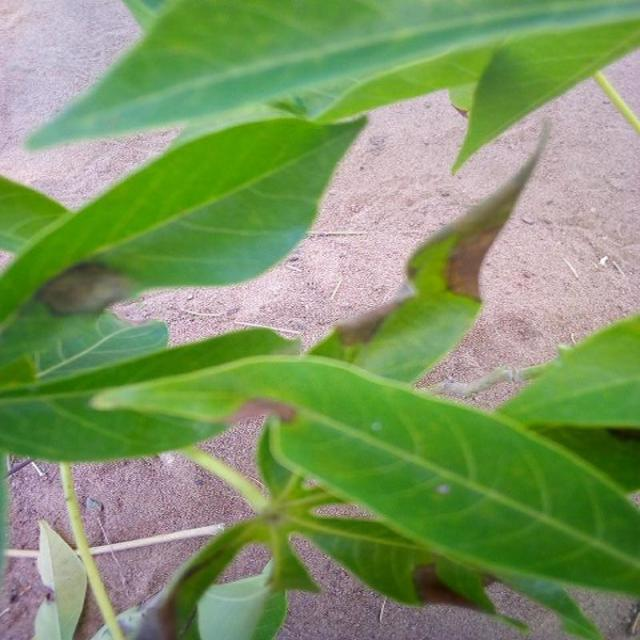cassava leaf: (0, 1, 638, 637), (22, 0, 638, 170), (0, 110, 368, 328)
